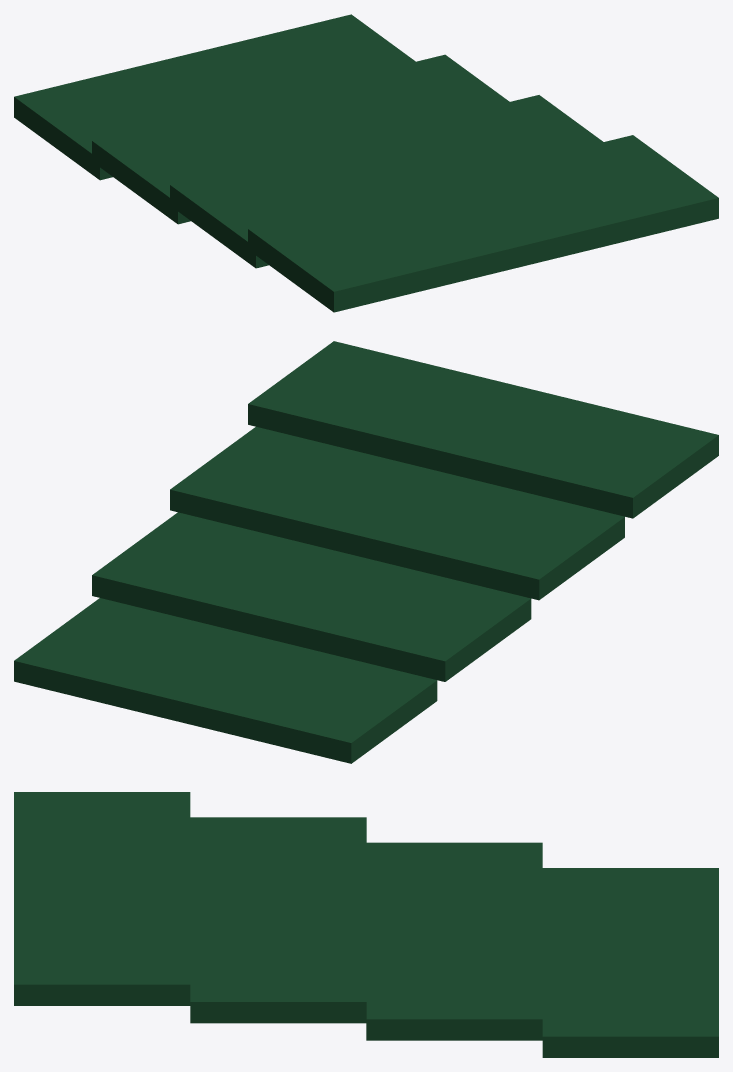
The model's file is hillstandK2.glb.
3 renders of one model, top to bottom at view 1: azimuth 30°, elevation 25°; view 2: azimuth 150°, elevation 25°; view 3: azimuth 270°, elevation 25°, orthographic. The views are drawn at different scales.
Parts seen in each view (by area): view 1: hillstandK2; view 2: hillstandK2; view 3: hillstandK2.
Part boxes in pixels (box(x1,y1,x2,y2)): hillstandK2: box(14, 14, 718, 312); hillstandK2: box(14, 341, 718, 763); hillstandK2: box(14, 792, 718, 1057).
Size of the model in its own units: 9.7 by 2 by 15.
